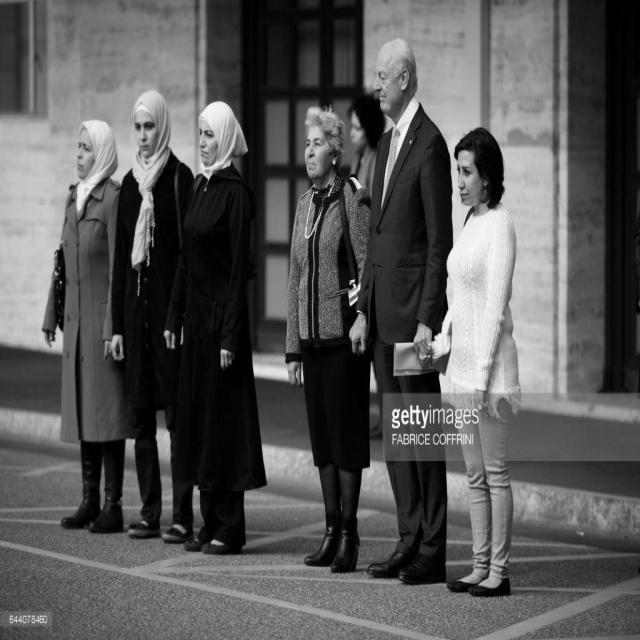person: (413, 115, 526, 598), (363, 28, 458, 597), (354, 89, 454, 590), (163, 97, 269, 558), (283, 108, 375, 566), (44, 120, 138, 538), (110, 95, 192, 556), (346, 94, 385, 196)
